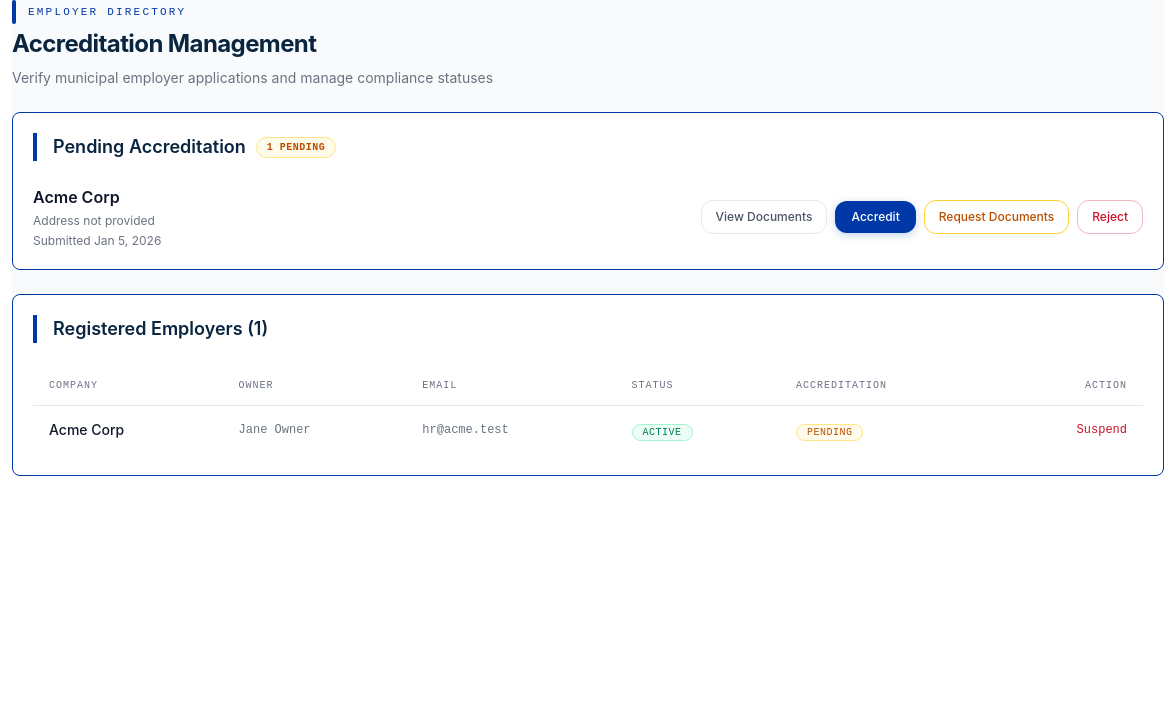
Test: Accreditation mutation error handling (S4) › surfaces the error banner when rejecting fails
Click the button "Reject" at (1110, 217), box [1077,200,1143,234]
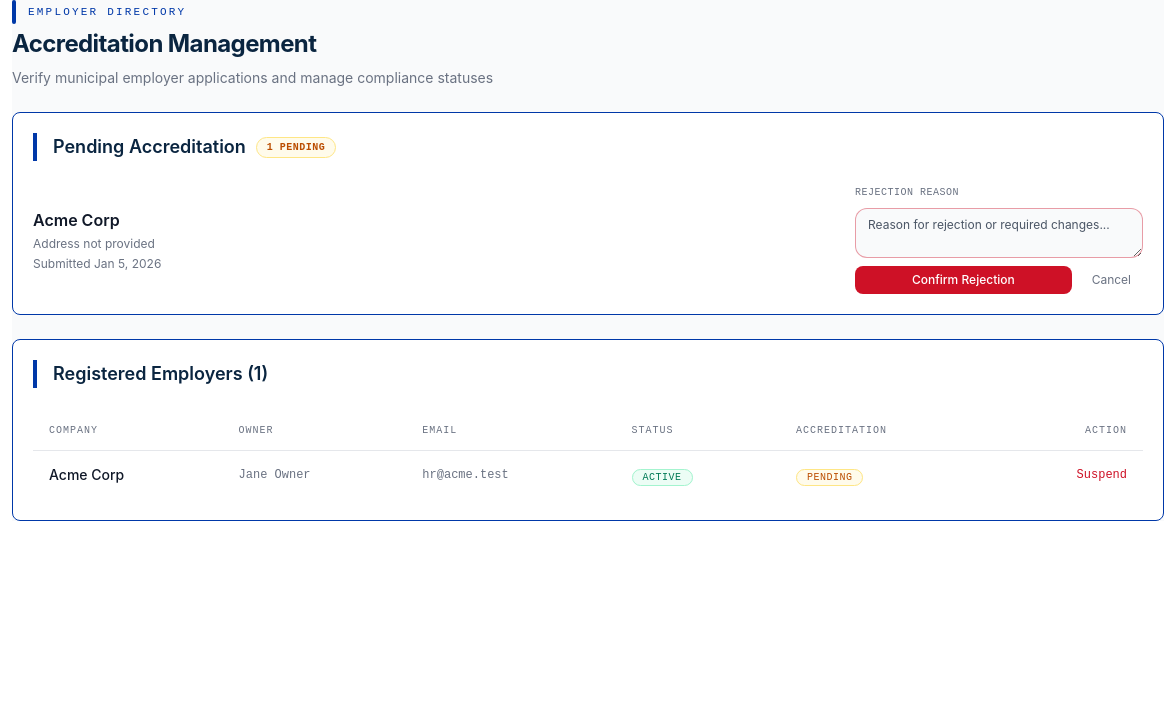
Type "Incomplete" into the text box labelled "Rejection reason" at (999, 233), box [855,208,1143,258]
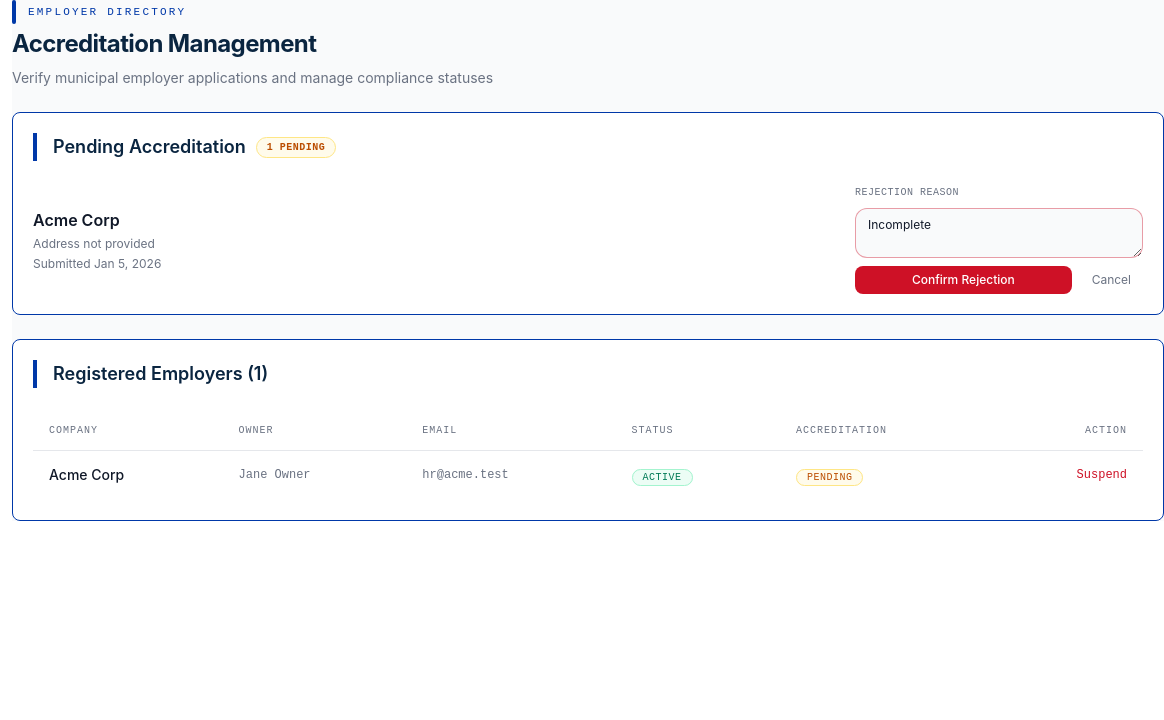
Click the button "Confirm Rejection" at (963, 280), box [855,266,1072,294]
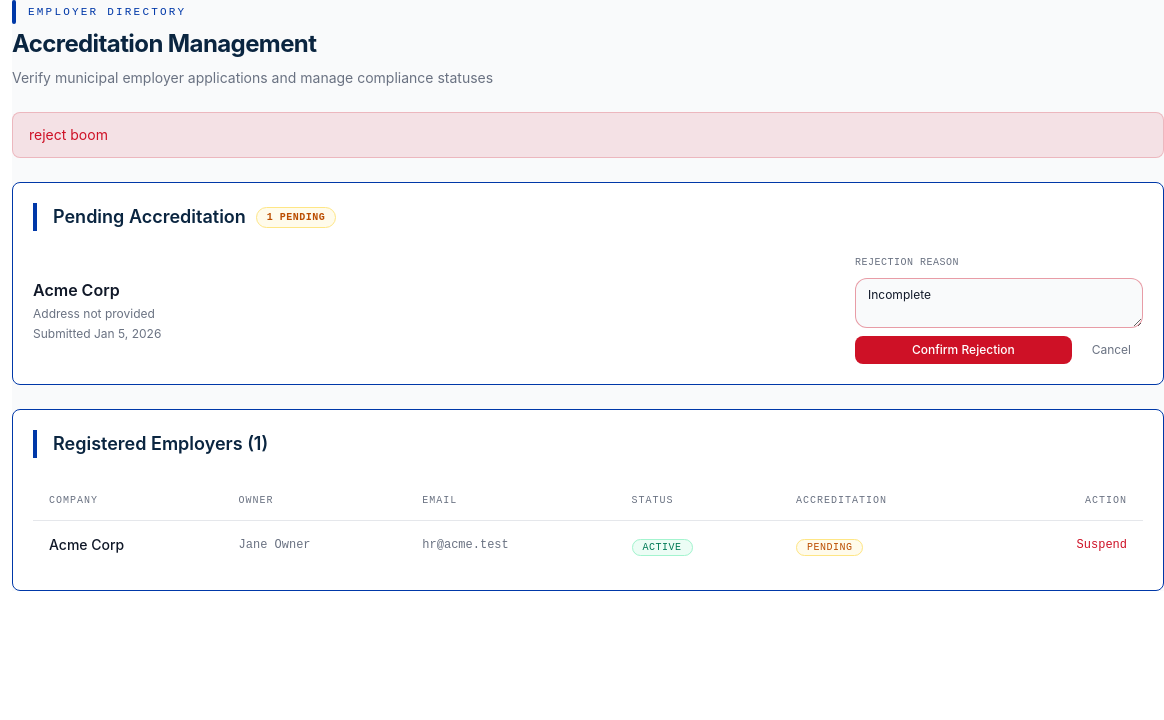
Now the message reads "reject boom", box [29,126,108,143]
